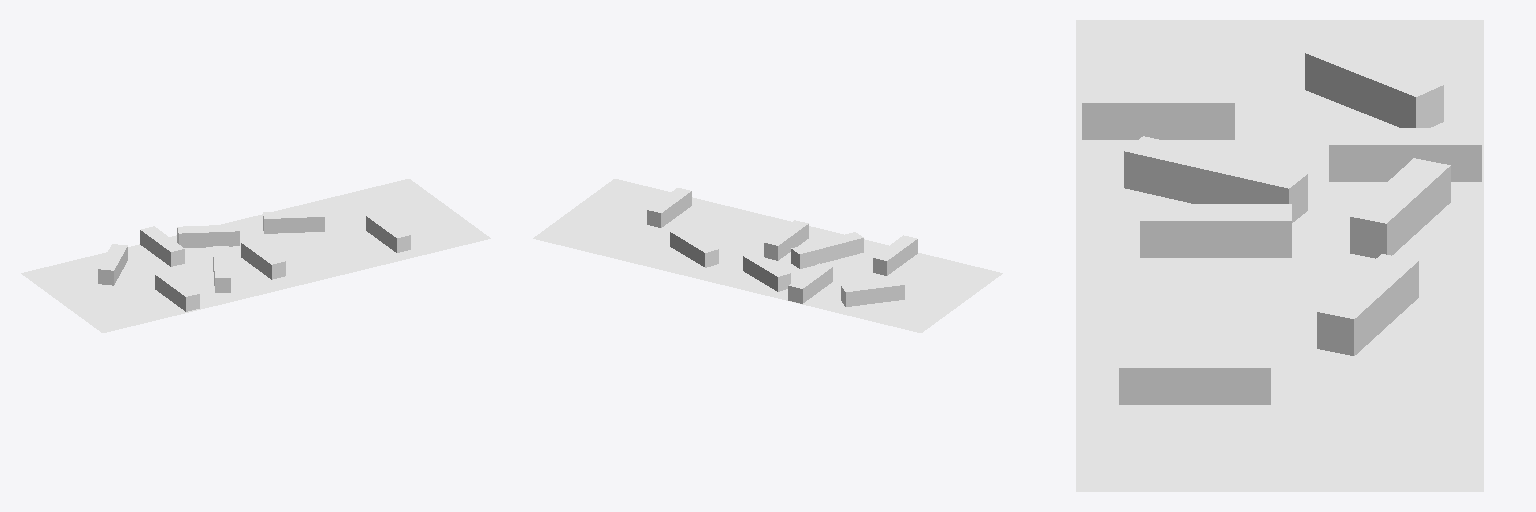
The robot description file, URDF, robot "scene":
<robot name="scene">
  <link name="base_link">
    <visual>
      <origin xyz="0 0 0" rpy="0 0 0" />
      <geometry>
        <mesh filename="package://hpp_environments/meshes/buggy/scene.stl"/>
      </geometry>
      <material name="white">
        <color rgba="1 1 1 1"/>
      </material>
    </visual>
    <collision>
      <origin xyz="0 0 0" rpy="0 0 0" />
      <geometry>
        <mesh filename="package://hpp_environments/meshes/buggy/scene.stl"/>
      </geometry>
    </collision>
  </link>
</robot>

--- Facts derived from the render (not from the file) ---
Views: 3 orthographic renders of the robot side by side, from view 1: azimuth 30°, elevation 25°; view 2: azimuth 150°, elevation 25°; view 3: azimuth 270°, elevation 25°.
Robot: scene — 1 links, 0 joints (none); root link base_link; default pose: every joint at zero.
Links seen in each view (by area): view 1: base_link; view 2: base_link; view 3: base_link.
Link boxes in pixels (x1=…): base_link: x1=21, y1=179, x2=490, y2=332; base_link: x1=533, y1=179, x2=1002, y2=332; base_link: x1=1076, y1=20, x2=1483, y2=491.
Bounding box of the posed robot: 27.31 × 10 × 1 m (x, y, z).
1 mesh visuals loaded from 1 distinct referenced files (1 binary STL).